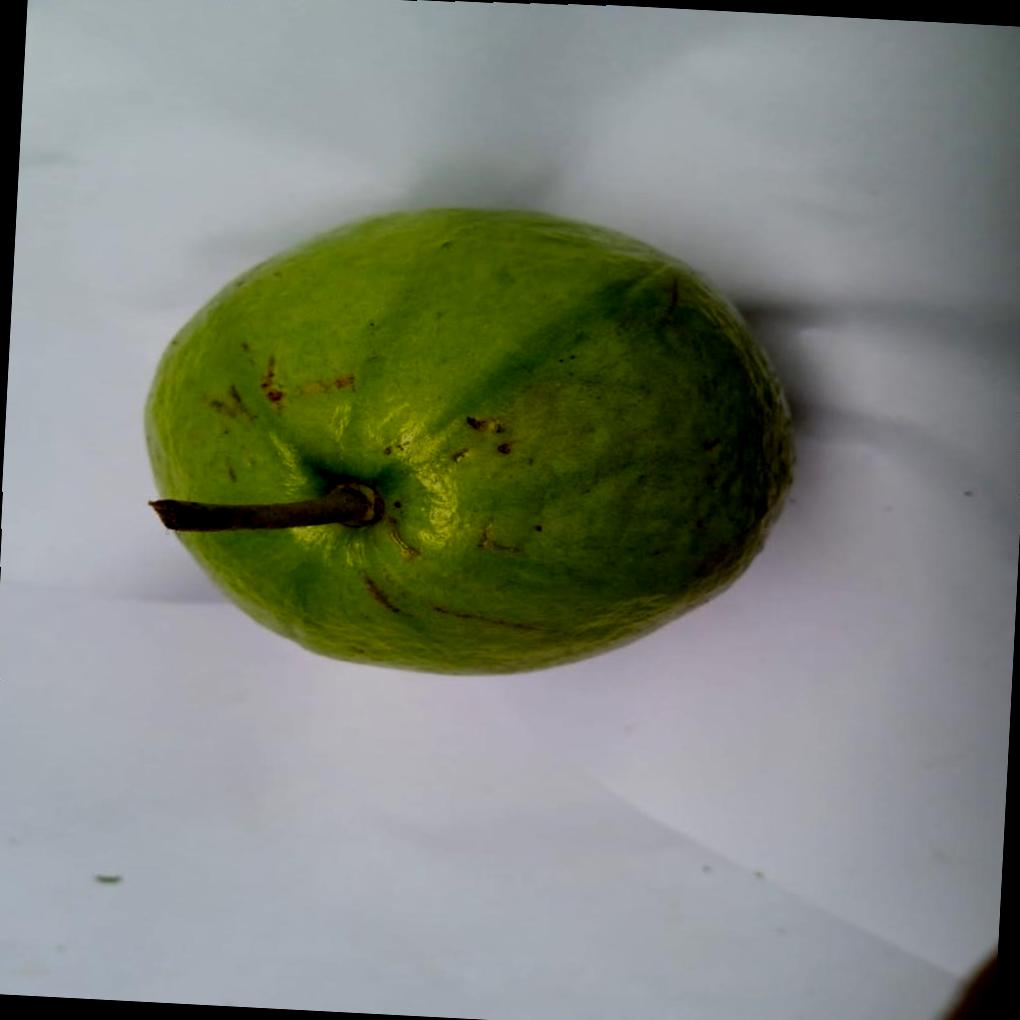FreshGuava: (138, 202, 792, 676)
